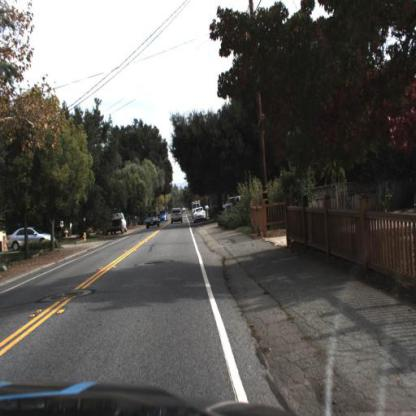car: (4, 224, 56, 249), (6, 225, 54, 252), (107, 209, 128, 236), (107, 210, 128, 234), (189, 206, 208, 226), (192, 203, 208, 224), (144, 211, 160, 228), (170, 204, 184, 223)
